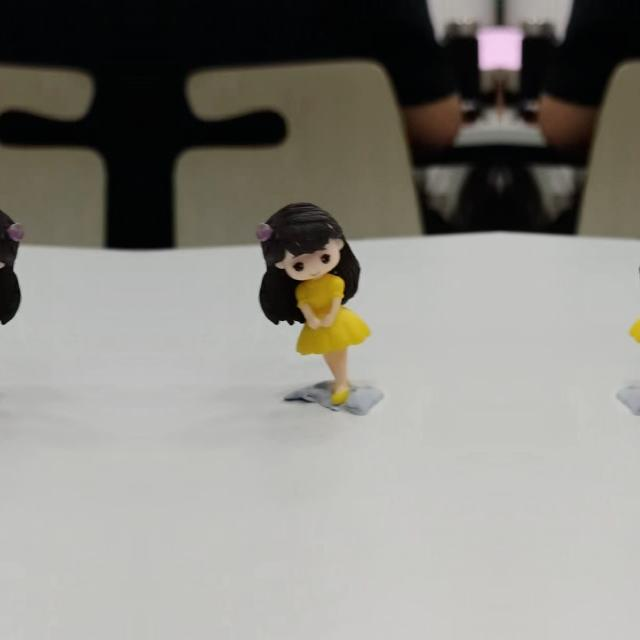woman head: (256, 196, 348, 282), (0, 196, 24, 282)
